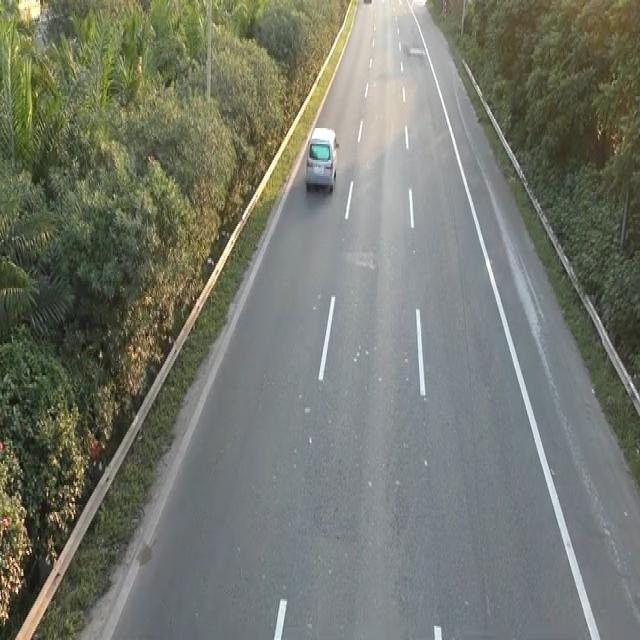lorry: (304, 122, 340, 196)
